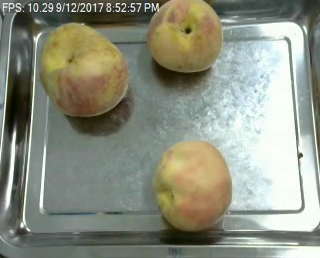Peach: (38, 21, 128, 117), (153, 139, 231, 231), (148, 0, 223, 73)
